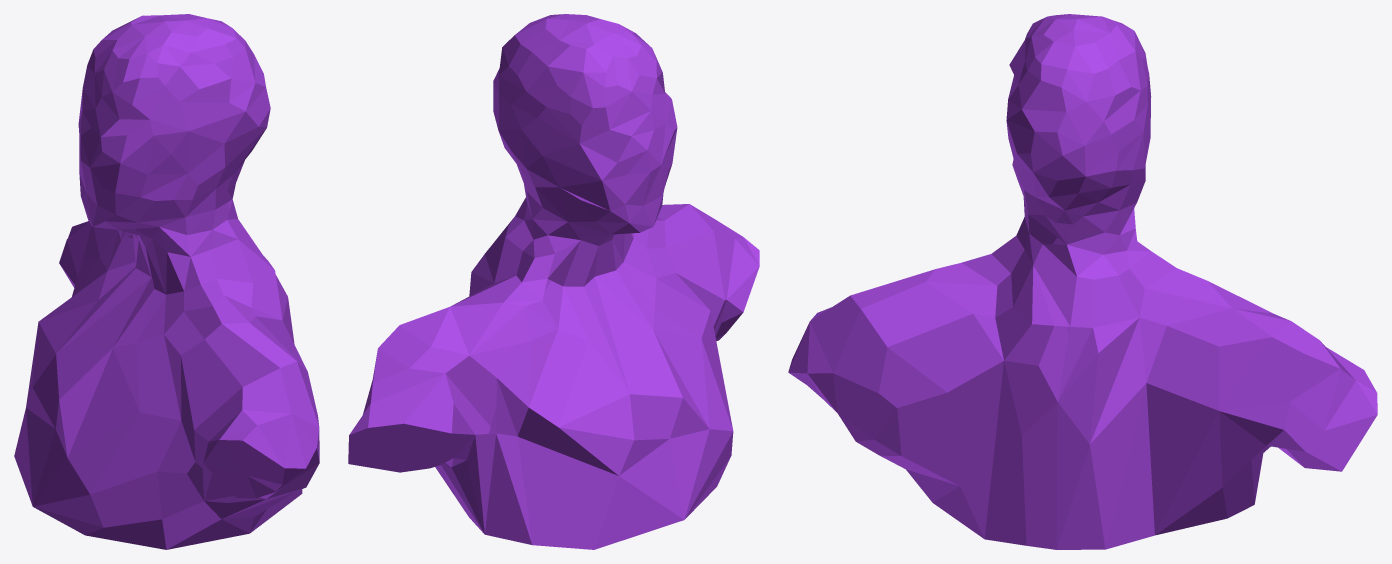
File: Statue.009_chunks.fbx
3 views of the same model, side by side, from view 1: azimuth 30°, elevation 25°; view 2: azimuth 150°, elevation 25°; view 3: azimuth 270°, elevation 25° (orthographic). The views are drawn at different scales.
Parts seen in each view (by area): view 1: Statue.009_2, Statue.009_3, Statue.009_0, Statue.009_1; view 2: Statue.009_0, Statue.009_1, Statue.009_3, Statue.009_2; view 3: Statue.009_2, Statue.009_1, Statue.009_3.
Boxes of the visible parts, box(x1,y1,x2,y2) form: Statue.009_2: box(81, 216, 319, 549); Statue.009_3: box(78, 14, 270, 254); Statue.009_0: box(14, 149, 161, 532); Statue.009_1: box(59, 189, 262, 287); Statue.009_0: box(472, 187, 731, 549); Statue.009_1: box(348, 118, 568, 522); Statue.009_3: box(493, 14, 677, 203); Statue.009_2: box(616, 204, 759, 488); Statue.009_2: box(788, 230, 1195, 549); Statue.009_1: box(1050, 147, 1377, 525); Statue.009_3: box(1006, 14, 1151, 247).
Bounding box in the file's own units: 184 × 345 × 383.
